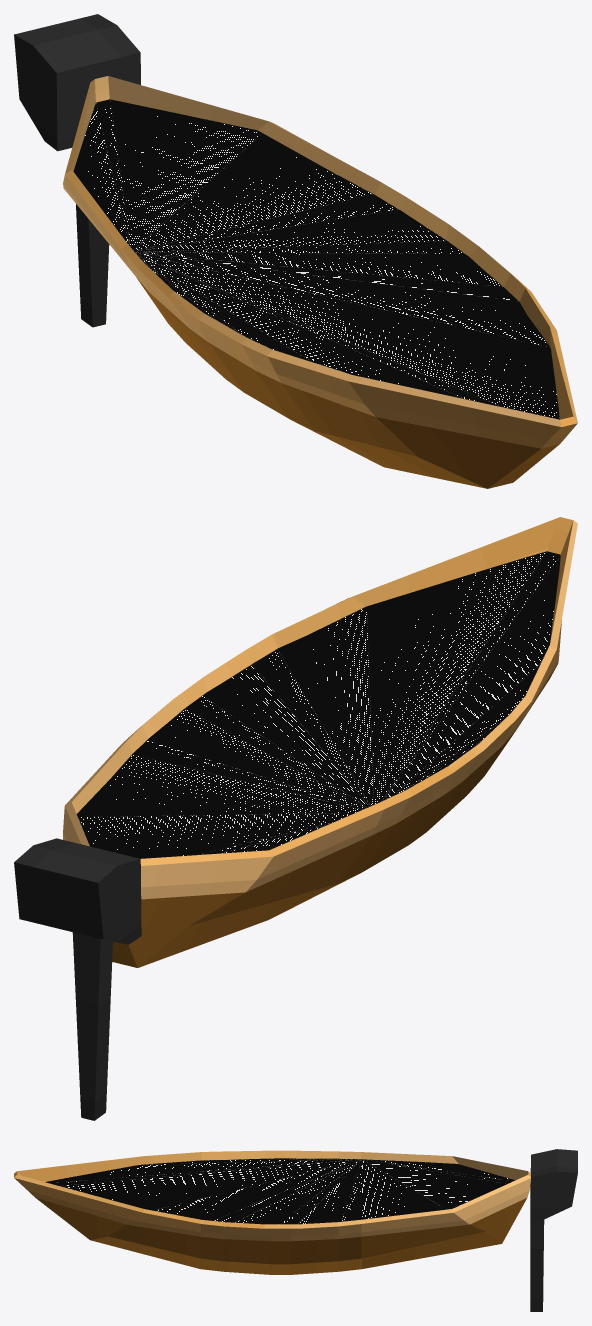
File: Kapal.fbx
The picture shows the model from 3 angles, top to bottom: view 1: azimuth 30°, elevation 25°; view 2: azimuth 150°, elevation 25°; view 3: azimuth 270°, elevation 25°; orthographic projection. The views are drawn at different scales.
Parts seen in each view (by area): view 1: Depth, Circle.085; view 2: Depth, Circle.085; view 3: Circle.085, Depth.
Part boxes in pixels (bbox=[...]): Depth: bbox=[73, 99, 559, 419]; Circle.085: bbox=[14, 14, 577, 488]; Depth: bbox=[76, 551, 560, 858]; Circle.085: bbox=[14, 517, 577, 1120]; Circle.085: bbox=[14, 1149, 577, 1311]; Depth: bbox=[45, 1158, 515, 1224].
Size of the model in its own units: 151 by 138 by 470.
